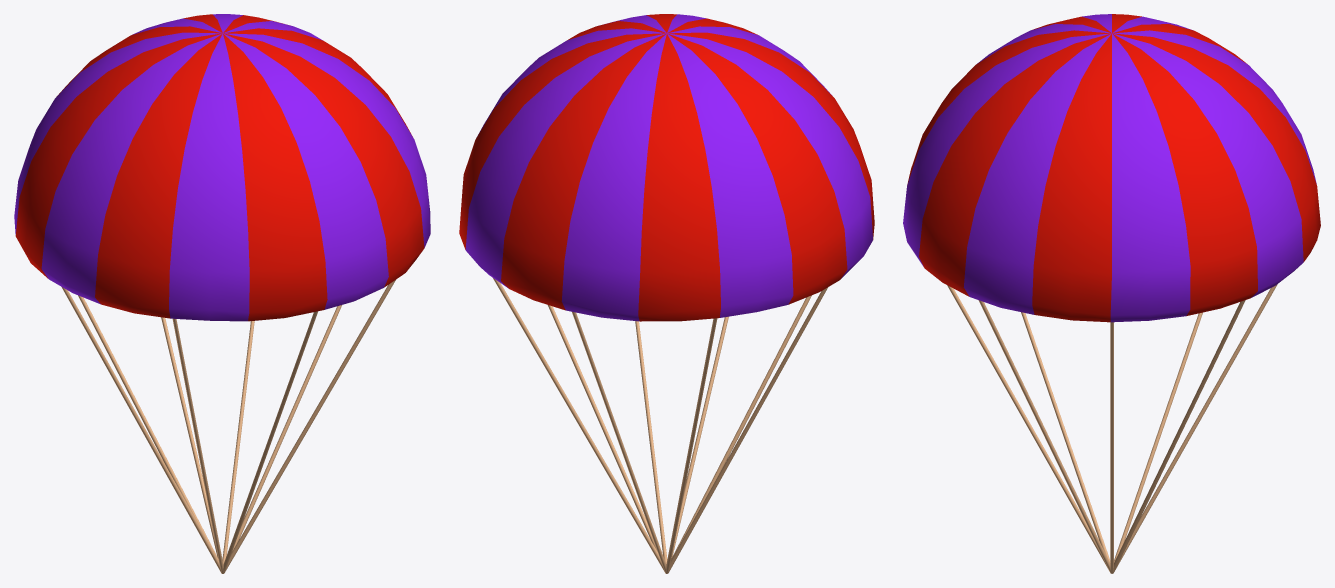
The model's file is Parachute.FBX.
3 views of the same model, side by side, from view 1: azimuth 30°, elevation 25°; view 2: azimuth 150°, elevation 25°; view 3: azimuth 270°, elevation 25° (orthographic).
Parts seen in each view (by area): view 1: Parasol, Ropes, Line023, Line021, Line024, Line018; view 2: Parasol, Ropes, Line019, Line020, Line024, Line022; view 3: Parasol, Ropes, Line018, Line022, Line025, Line020, Line021.
Part boxes in pixels (x1,y1,x2,y2): Parasol: [14, 14, 430, 321]; Ropes: [66, 282, 391, 564]; Line023: [172, 318, 223, 573]; Line021: [222, 311, 317, 573]; Line024: [61, 287, 221, 573]; Line018: [224, 280, 395, 572]; Parasol: [459, 14, 874, 321]; Ropes: [497, 281, 823, 564]; Line019: [666, 318, 717, 573]; Line020: [572, 312, 666, 573]; Line024: [668, 287, 828, 573]; Line022: [492, 277, 665, 573]; Parasol: [903, 14, 1320, 322]; Ropes: [950, 286, 1274, 565]; Line018: [978, 300, 1111, 573]; Line022: [1112, 300, 1245, 573]; Line025: [1110, 322, 1113, 573]; Line020: [1114, 284, 1277, 571]; Line021: [947, 285, 1108, 569].
Bounding box in the file's own units: 108 × 154 × 108.
